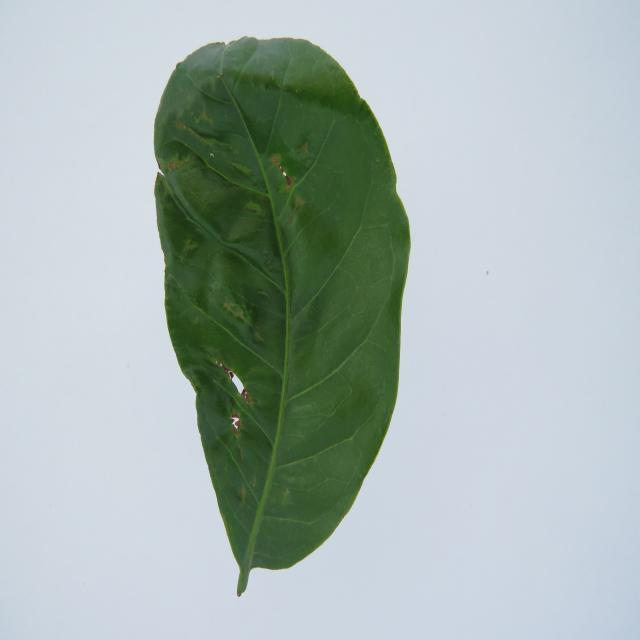DeficienciaNutricional-Calcio: (154, 38, 410, 595)
